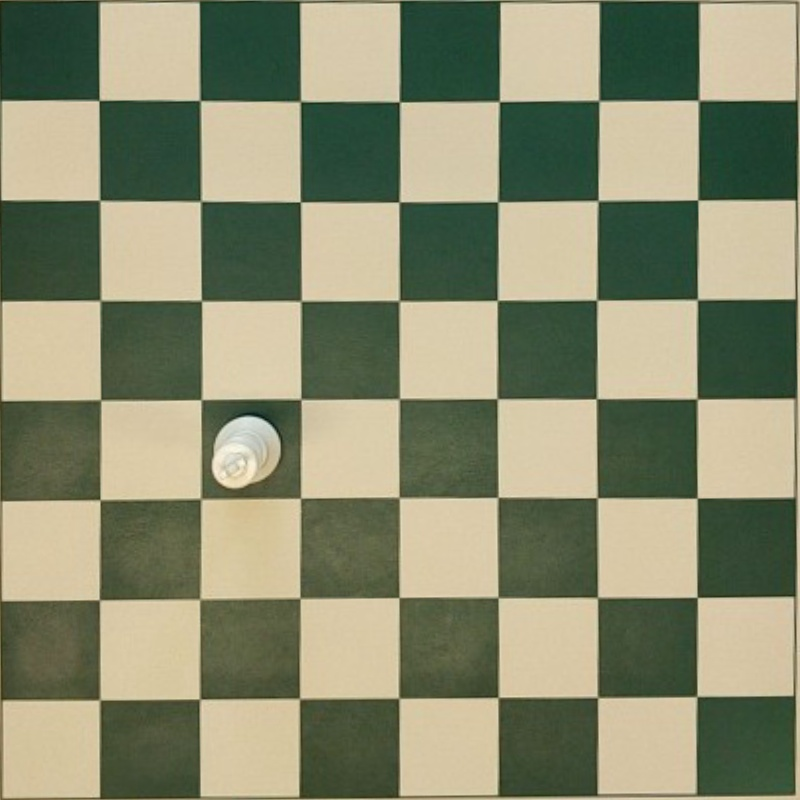white-king: (209, 414, 281, 490)
